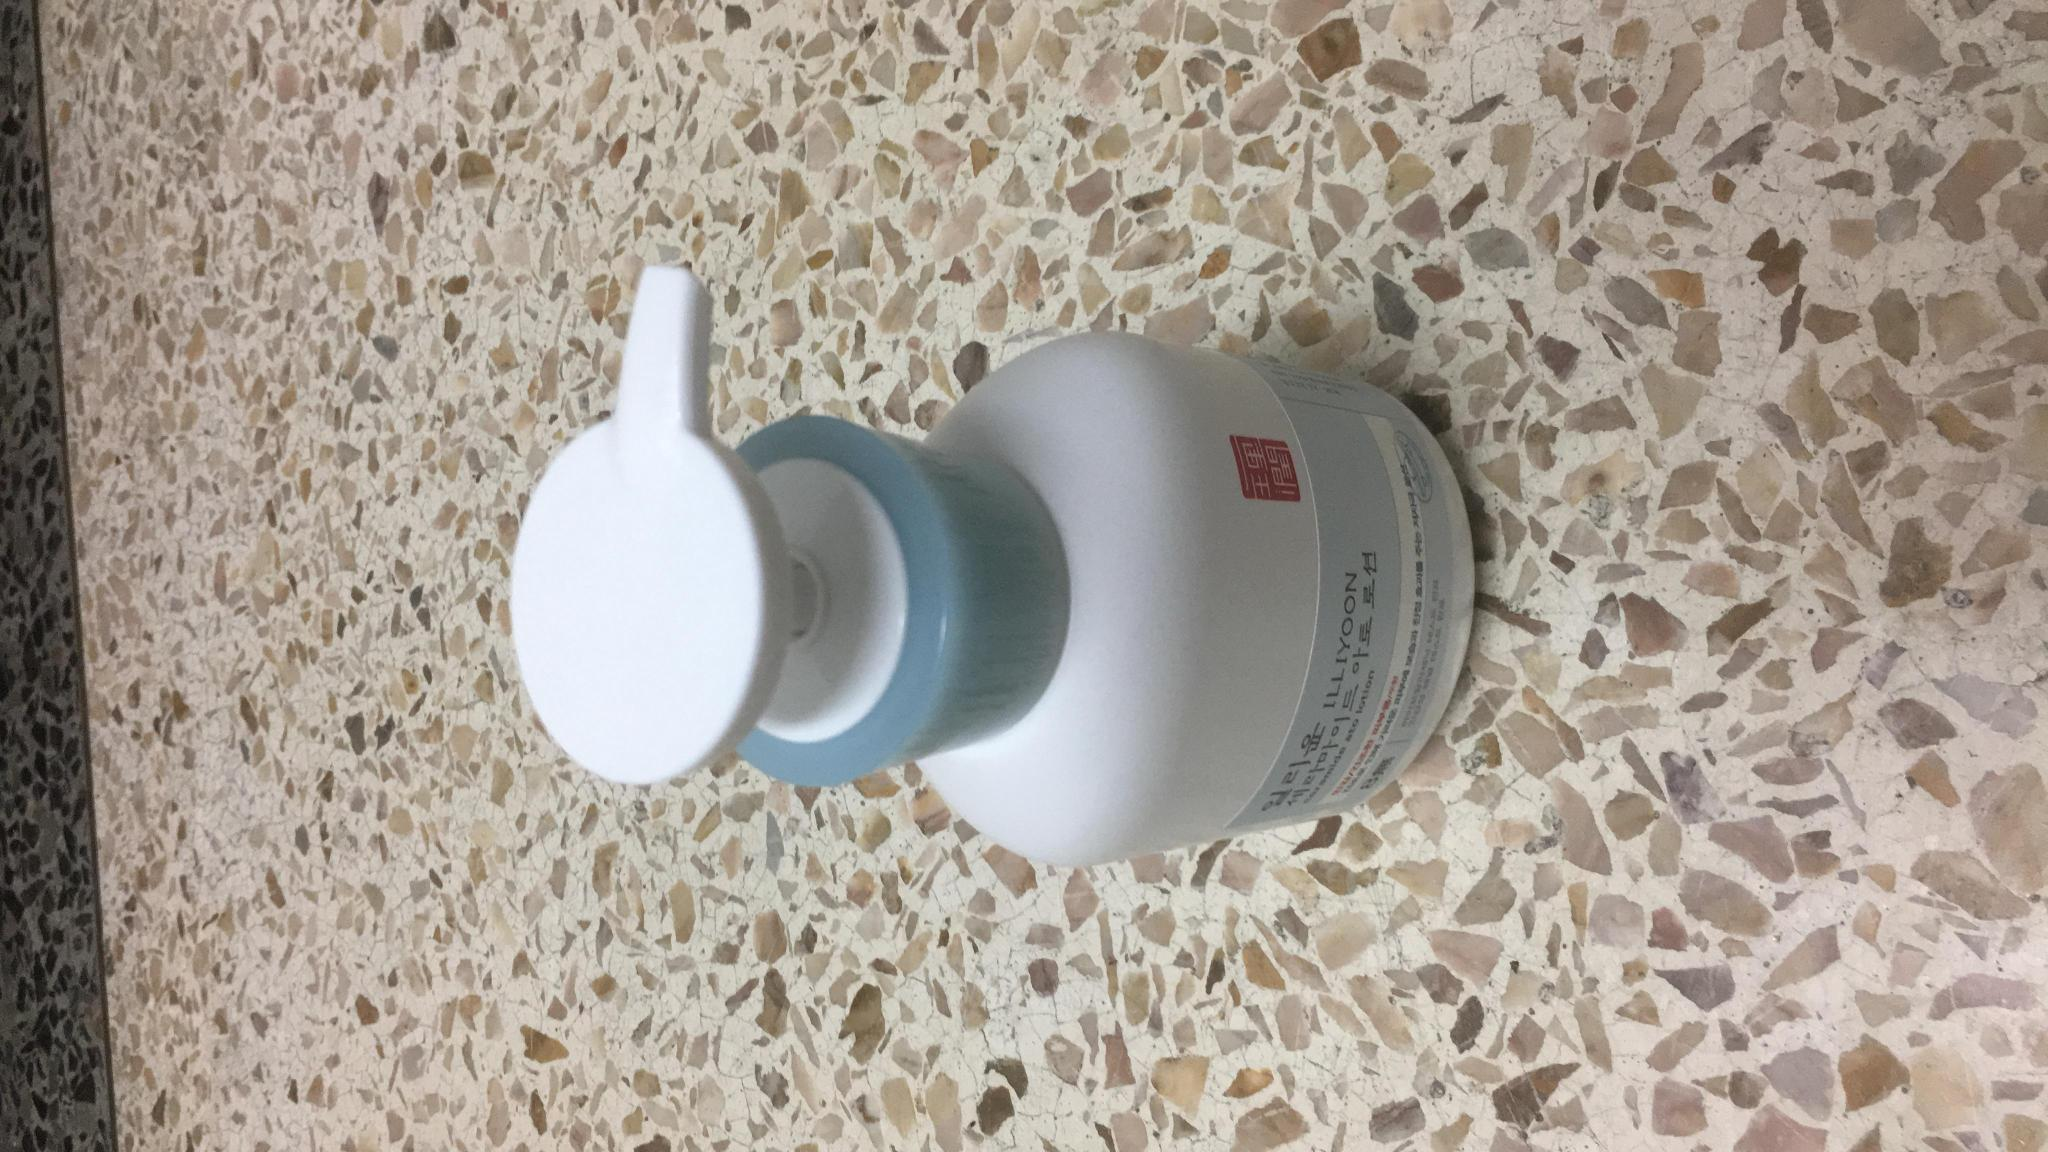bottle: (505, 256, 1491, 890)
